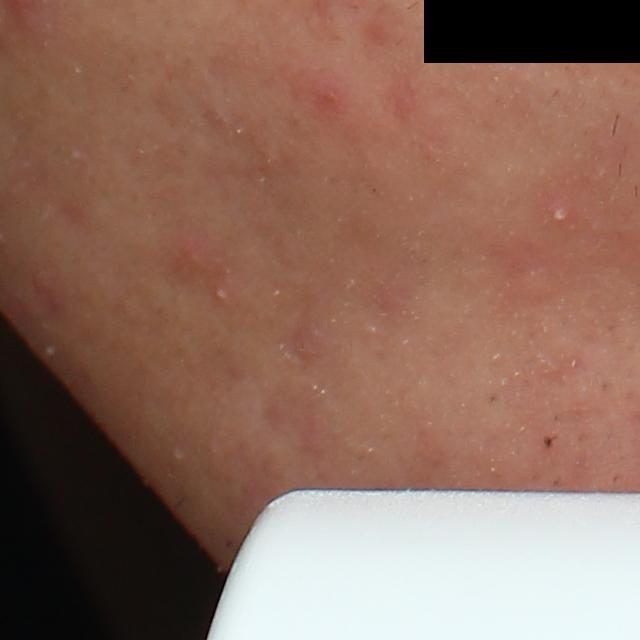papule: (159, 226, 217, 286), (289, 320, 326, 363)
pustule: (545, 197, 573, 227), (211, 281, 234, 303)
